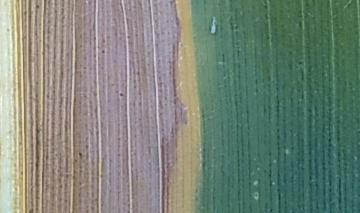tarspot: (74, 149, 86, 159), (116, 91, 126, 98), (99, 47, 107, 55), (35, 2, 41, 9)
